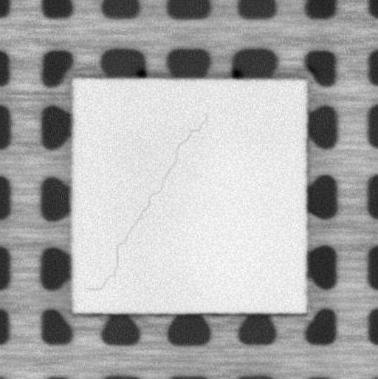DIE_CRACK: (88, 114, 209, 293)
